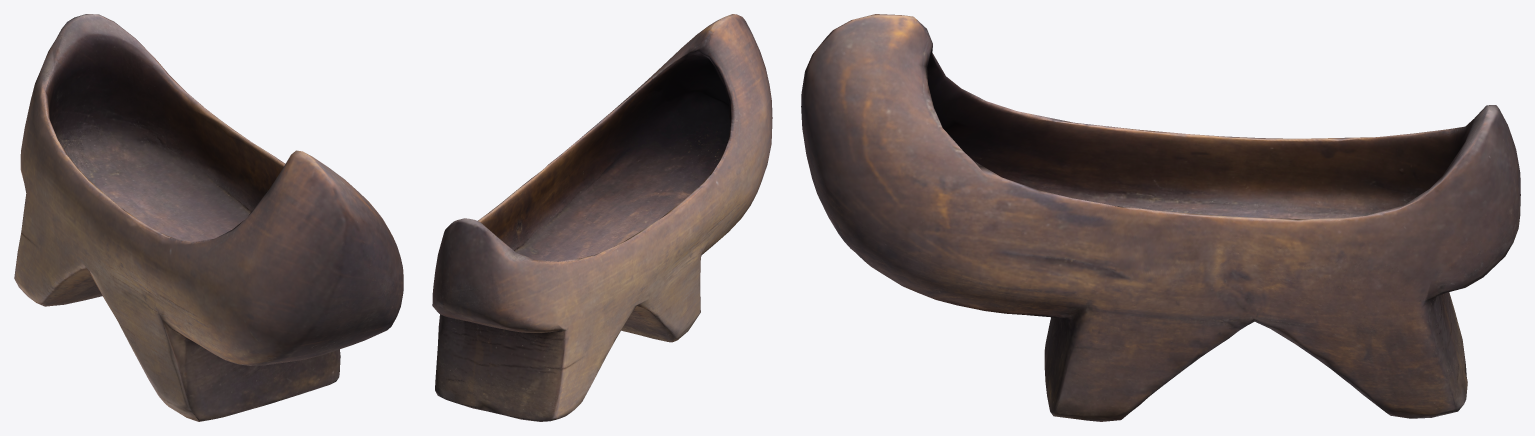
The model's file is SM_Wooden_Shoes.fbx.
3 renders of one model, left to right at view 1: azimuth 30°, elevation 25°; view 2: azimuth 150°, elevation 25°; view 3: azimuth 270°, elevation 25°, orthographic. The views are drawn at different scales.
Visible parts, largest first — view 1: KCDF_2022_prop_Wooden_Shoes_Mesh; view 2: KCDF_2022_prop_Wooden_Shoes_Mesh; view 3: KCDF_2022_prop_Wooden_Shoes_Mesh.
Boxes of the visible parts, box(x1,y1,x2,y2) form: KCDF_2022_prop_Wooden_Shoes_Mesh: box(14, 14, 403, 421); KCDF_2022_prop_Wooden_Shoes_Mesh: box(432, 14, 772, 421); KCDF_2022_prop_Wooden_Shoes_Mesh: box(801, 14, 1520, 421).
Size of the model in its own units: 12.8 by 20.72 by 37.78.
1 material, 1 textured.
